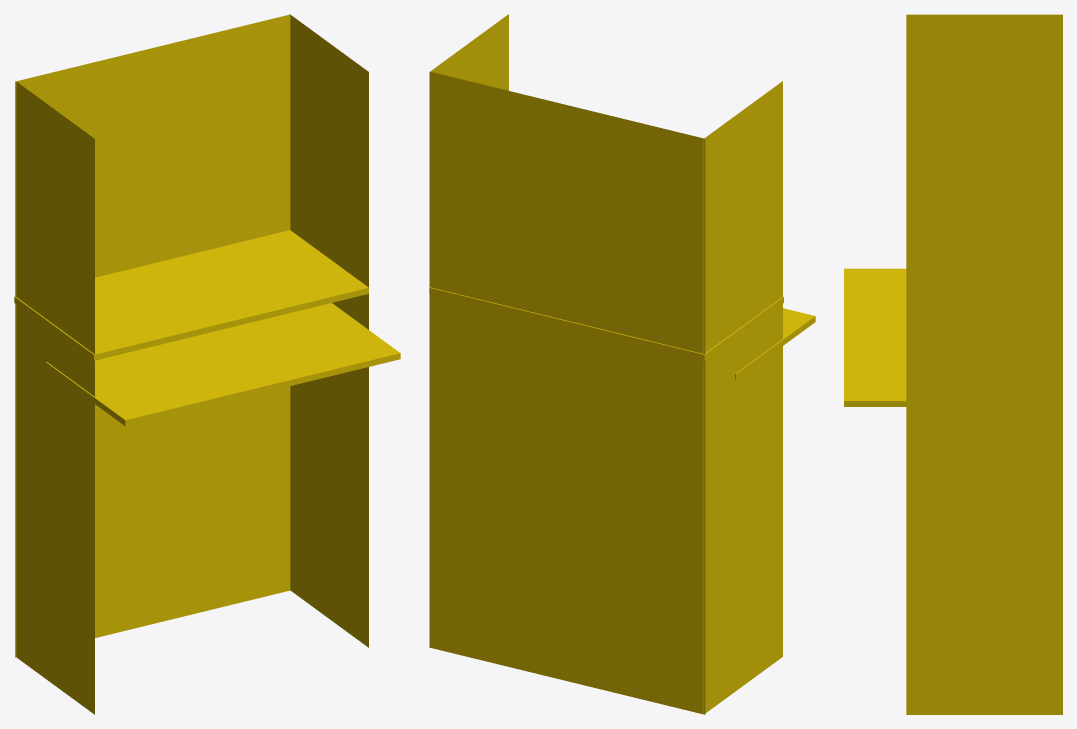
3 renders of one model, left to right at view 1: azimuth 30°, elevation 25°; view 2: azimuth 150°, elevation 25°; view 3: azimuth 270°, elevation 25°, orthographic.
Parts seen in each view (by area): view 1: Plane.004; view 2: Plane.004; view 3: Plane.004.
Boxes of the visible parts, <box> form: Plane.004: <box>14,14,400,714</box>; Plane.004: <box>429,14,815,714</box>; Plane.004: <box>844,14,1062,714</box>.
Size of the model in its own units: 2 by 4 by 1.4.
